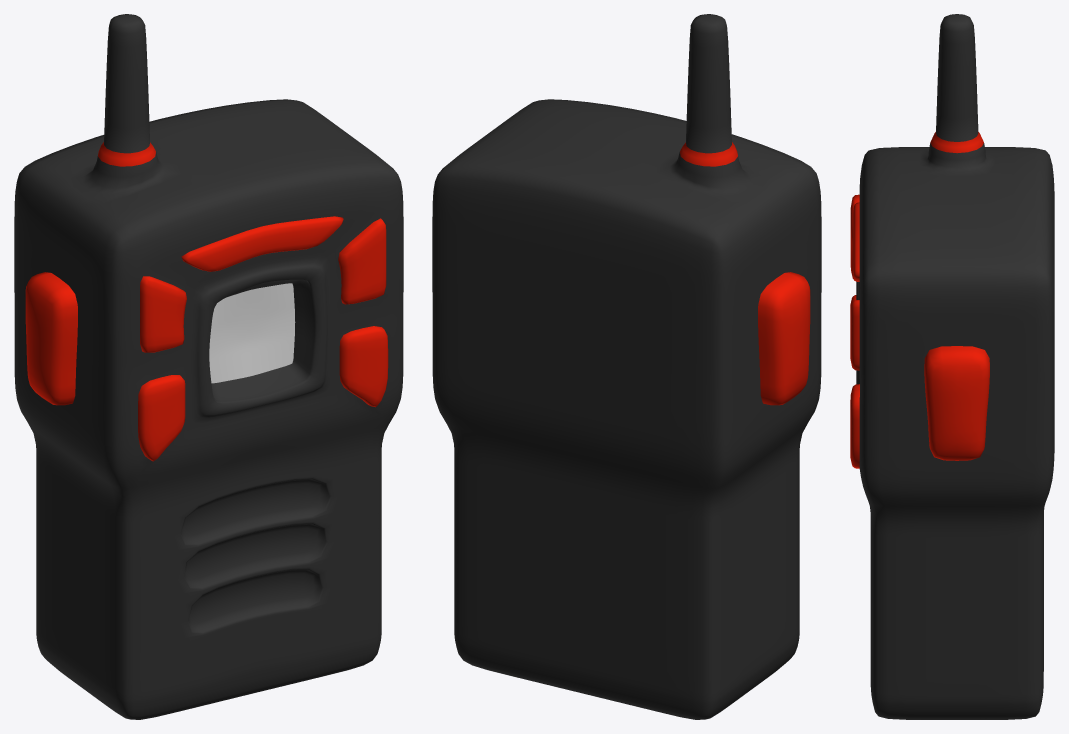
Rendered from walkie_talkie.fbx.
The picture shows the model from 3 angles, left to right: view 1: azimuth 30°, elevation 25°; view 2: azimuth 150°, elevation 25°; view 3: azimuth 270°, elevation 25°; orthographic projection. The views are drawn at different scales.
Parts seen in each view (by area): view 1: walkie_talkie; view 2: walkie_talkie; view 3: walkie_talkie.
Boxes of the visible parts, <box> form: walkie_talkie: <box>14,14,403,719</box>; walkie_talkie: <box>432,14,821,719</box>; walkie_talkie: <box>850,14,1054,719</box>.
Size of the model in its own units: 18.85 by 34.46 by 10.38.
